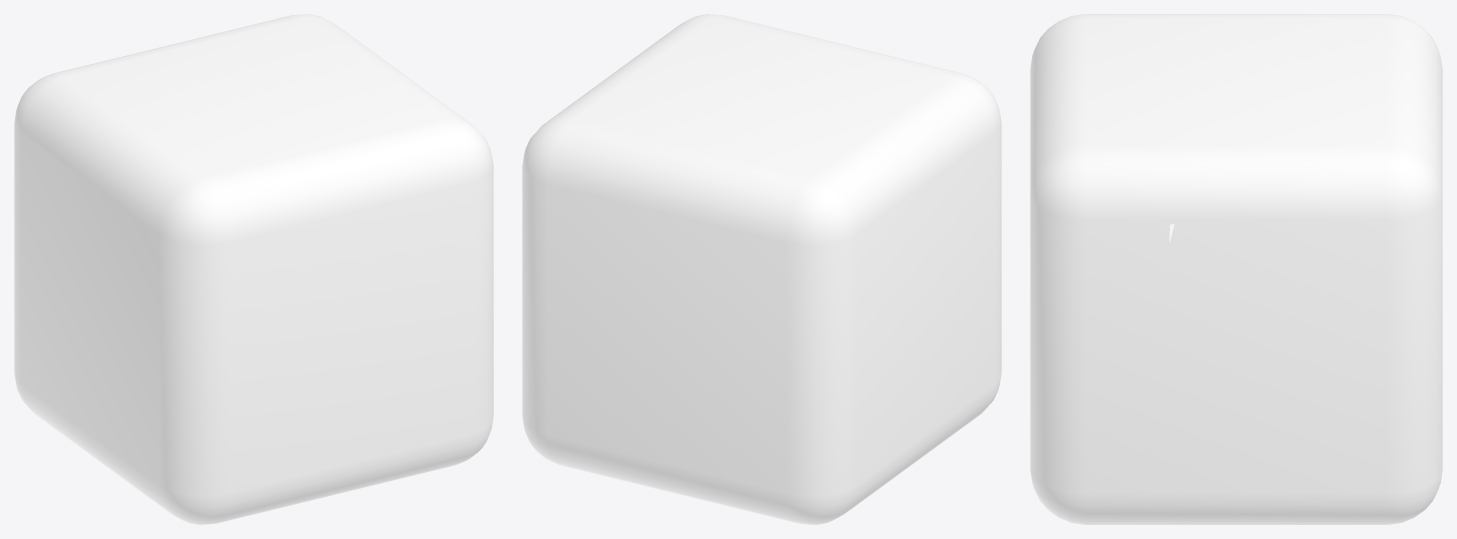
File: IceCube1.glb
3 views of the same model, side by side, from view 1: azimuth 30°, elevation 25°; view 2: azimuth 150°, elevation 25°; view 3: azimuth 270°, elevation 25° (orthographic). The views are drawn at different scales.
Visible parts, largest first — view 1: IceCube1_Body; view 2: IceCube1_Body; view 3: IceCube1_Body.
Boxes of the visible parts, x1=… form: IceCube1_Body: x1=14, y1=14, x2=493, y2=524; IceCube1_Body: x1=522, y1=14, x2=1001, y2=524; IceCube1_Body: x1=1030, y1=14, x2=1442, y2=524.
Size of the model in its own units: 1.03 by 1 by 1.
Materials: 6 (2 with a texture image).
